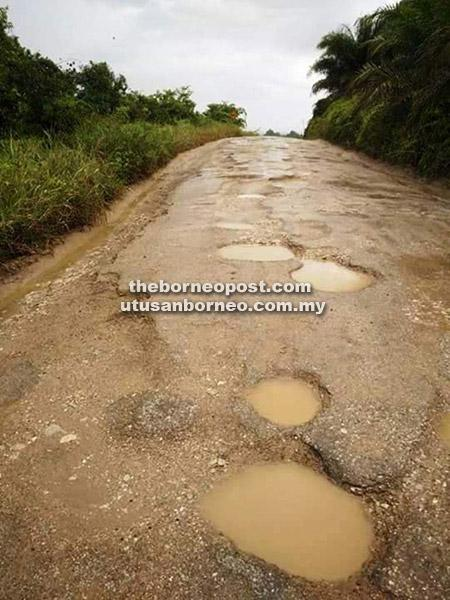Pothole: (191, 436, 391, 580), (196, 214, 390, 312), (212, 346, 349, 437), (204, 146, 305, 205)
